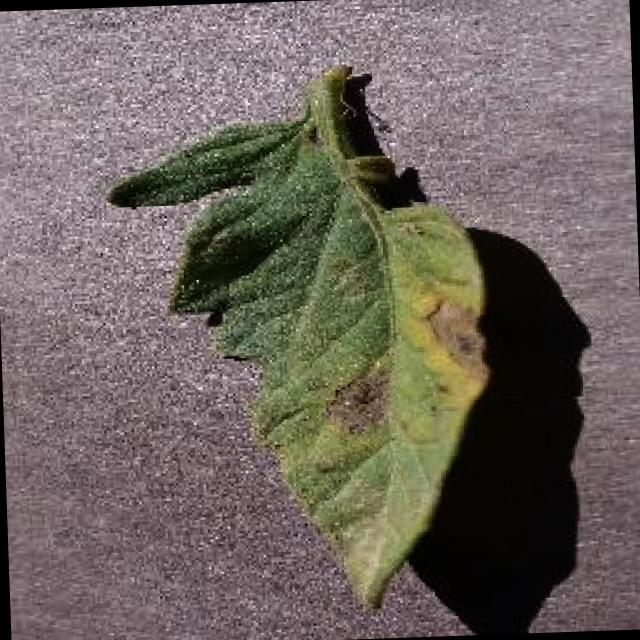Tomato Early blight leaf: (106, 109, 496, 625)
